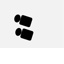human: (12, 12, 33, 27), (12, 27, 35, 40)
